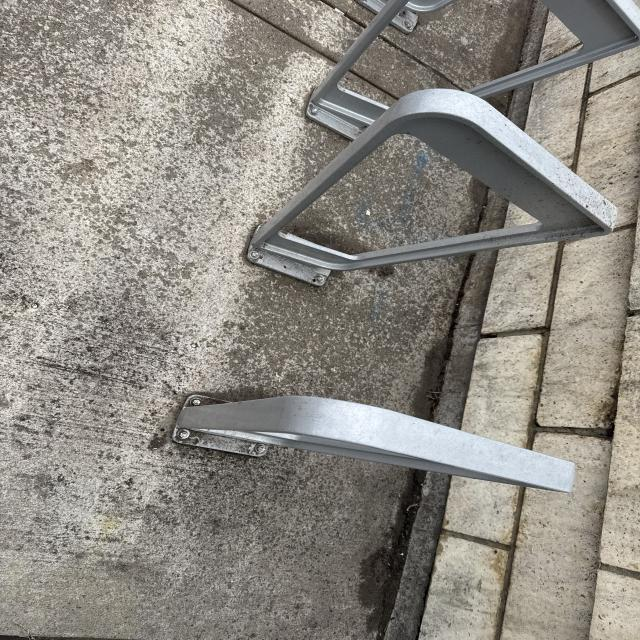Bicycle Rack: (247, 94, 616, 286), (304, 0, 639, 130), (176, 394, 580, 499)
